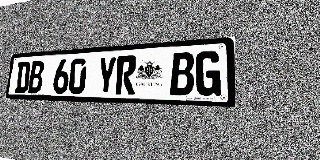0: (68, 58, 87, 94)
6: (52, 59, 71, 94)
B: (170, 52, 195, 96), (28, 60, 45, 93)
D: (15, 61, 31, 93)
G: (195, 50, 221, 96)
R: (115, 55, 137, 95)
Y: (96, 56, 117, 94)
